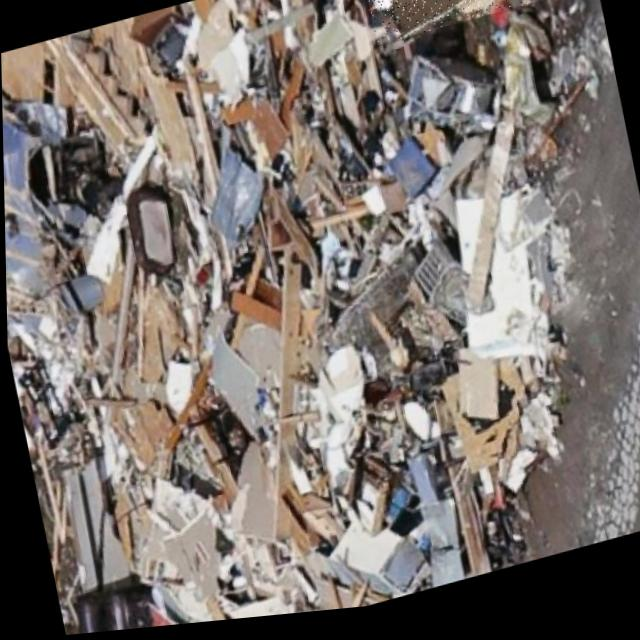Person in Rubble: (359, 0, 555, 52)
